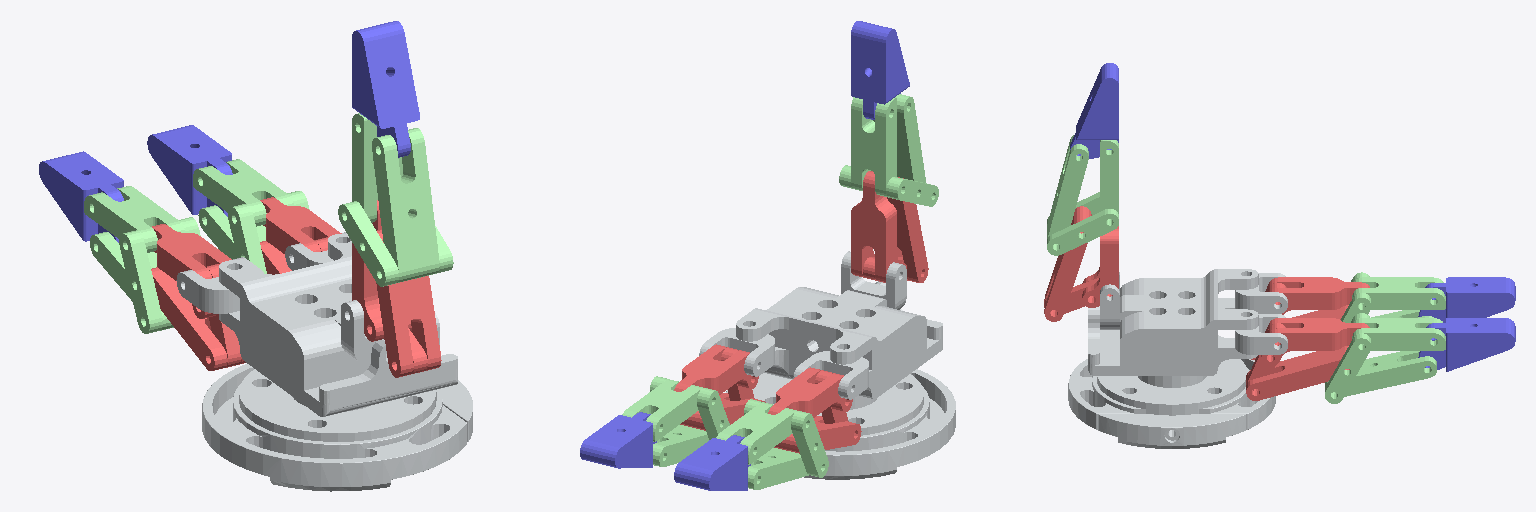
URDF robot description (hx01_p11_urdf_v1_5):
<?xml version="1.0" encoding="utf-8"?>
<!-- This URDF was automatically created by SolidWorks to URDF Exporter! Originally created by [author] ([email redacted]) 
     Commit Version: 1.6.0-4-g7f85cfe  Build Version: 1.6.7995.38578
     For more information, please see http://wiki.ros.org/sw_urdf_exporter -->
<robot
  name="hx01_p11_urdf_v1_5">
  <mujoco>
    <compiler meshdir="..\meshes" balanceinertia="false" discardvisual="false"/>
  </mujoco>

  <link
    name="hx01_hand_base_link">
    <inertial>
      <origin
        xyz="0.00054804 -0.0010883 -0.024366"
        rpy="0 0 0" />
      <mass
        value="0.27267" />
      <inertia
        ixx="0.00011167"
        ixy="1.523E-08"
        ixz="-1.3818E-07"
        iyy="9.5051E-05"
        iyz="-2.3852E-06"
        izz="0.0001569" />
    </inertial>
    <visual>
      <origin
        xyz="0 0 0"
        rpy="0 0 0" />
      <geometry>
        <mesh
          filename="package://hx01_p11_urdf_v1_5/meshes/hx01_hand_base_link.STL" />
      </geometry>
      <material
        name="">
        <color
          rgba="0.89804 0.91765 0.92941 1" />
      </material>
    </visual>
    <collision>
      <origin
        xyz="0 0 0"
        rpy="0 0 0" />
      <geometry>
        <mesh
          filename="package://hx01_p11_urdf_v1_5/meshes/hx01_hand_base_link.STL" />
      </geometry>
    </collision>
  </link>
  <link
    name="link1_F1_Ujoint">
    <inertial>
      <origin
        xyz="3.4029E-05 0 0.0035961"
        rpy="0 0 0" />
      <mass
        value="0.0061837" />
      <inertia
        ixx="2.2434E-07"
        ixy="-3.8637E-23"
        ixz="-1.9788E-09"
        iyy="5.4172E-07"
        iyz="7.1018E-24"
        izz="3.9017E-07" />
    </inertial>
    <visual>
      <origin
        xyz="0 0 0"
        rpy="0 0 0" />
      <geometry>
        <mesh
          filename="package://hx01_p11_urdf_v1_5/meshes/link1_F1_Ujoint.STL" />
      </geometry>
      <material
        name="">
        <color
          rgba="0.89804 0.91765 0.92941 1" />
      </material>
    </visual>
    <collision>
      <origin
        xyz="0 0 0"
        rpy="0 0 0" />
      <geometry>
        <mesh
          filename="package://hx01_p11_urdf_v1_5/meshes/link1_F1_Ujoint.STL" />
      </geometry>
    </collision>
  </link>
  <joint
    name="joint1_F1_MCPAbAd"
    type="revolute">
    <origin
      xyz="0 -0.026 -0.005"
      rpy="0 0 0" />
    <parent
      link="hx01_hand_base_link" />
    <child
      link="link1_F1_Ujoint" />
    <axis
      xyz="0 1 0" />
    <limit
      lower="-1.571"
      upper="1.571"
      effort="100"
      velocity="50" />
  </joint>
  <link
    name="link2_F1_Proximal">
    <inertial>
      <origin
        xyz="2.6493E-06 -0.0098301 0.010587"
        rpy="0 0 0" />
      <mass
        value="0.0095795" />
      <inertia
        ixx="1.363E-06"
        ixy="1.6403E-10"
        ixz="5.3694E-10"
        iyy="1.3386E-06"
        iyz="-2.7724E-07"
        izz="3.7875E-07" />
    </inertial>
    <visual>
      <origin
        xyz="0 0 0"
        rpy="0 0 0" />
      <geometry>
        <mesh
          filename="package://hx01_p11_urdf_v1_5/meshes/link2_F1_Proximal.STL" />
      </geometry>
      <material
        name="">
        <color
          rgba="1 0.50196 0.50196 1" />
      </material>
    </visual>
    <collision>
      <origin
        xyz="0 0 0"
        rpy="0 0 0" />
      <geometry>
        <mesh
          filename="package://hx01_p11_urdf_v1_5/meshes/link2_F1_Proximal.STL" />
      </geometry>
    </collision>
  </link>
  <joint
    name="joint2_F1_MCPFlex"
    type="revolute">
    <origin
      xyz="0 0 0.013"
      rpy="0 0 0" />
    <parent
      link="link1_F1_Ujoint" />
    <child
      link="link2_F1_Proximal" />
    <axis
      xyz="-1 0 0" />
    <limit
      lower="0"
      upper="2.094"
      effort="100"
      velocity="50" />
  </joint>
  <link
    name="link3_F1_Intermediate">
    <inertial>
      <origin
        xyz="4.9352E-06 -0.010536 0.006551"
        rpy="0 0 0" />
      <mass
        value="0.010285" />
      <inertia
        ixx="1.2728E-06"
        ixy="-1.329E-10"
        ixz="-9.1045E-10"
        iyy="1.2238E-06"
        iyz="-2.2669E-07"
        izz="4.0861E-07" />
    </inertial>
    <visual>
      <origin
        xyz="0 0 0"
        rpy="0 0 0" />
      <geometry>
        <mesh
          filename="package://hx01_p11_urdf_v1_5/meshes/link3_F1_Intermediate.STL" />
      </geometry>
      <material
        name="">
        <color
          rgba="0.75294 1 0.75294 1" />
      </material>
    </visual>
    <collision>
      <origin
        xyz="0 0 0"
        rpy="0 0 0" />
      <geometry>
        <mesh
          filename="package://hx01_p11_urdf_v1_5/meshes/link3_F1_Intermediate.STL" />
      </geometry>
    </collision>
  </link>
  <joint
    name="joint3_F1_PIP"
    type="revolute">
    <origin
      xyz="0 0 0.035"
      rpy="0 0 0" />
    <parent
      link="link2_F1_Proximal" />
    <child
      link="link3_F1_Intermediate" />
    <axis
      xyz="1 0 0" />
    <limit
      lower="-1.571"
      upper="0"
      effort="100"
      velocity="50" />
  </joint>
  <link
    name="link4_F1_Distal">
    <inertial>
      <origin
        xyz="2.6322E-09 -0.003231 0.014697"
        rpy="0 0 0" />
      <mass
        value="0.0060356" />
      <inertia
        ixx="6.7963E-07"
        ixy="-6.2431E-14"
        ixz="-2.7537E-14"
        iyy="6.5098E-07"
        iyz="-1.1436E-07"
        izz="2.3015E-07" />
    </inertial>
    <visual>
      <origin
        xyz="0 0 0"
        rpy="0 0 0" />
      <geometry>
        <mesh
          filename="package://hx01_p11_urdf_v1_5/meshes/link4_F1_Distal.STL" />
      </geometry>
      <material
        name="">
        <color
          rgba="0.50196 0.50196 1 1" />
      </material>
    </visual>
    <collision>
      <origin
        xyz="0 0 0"
        rpy="0 0 0" />
      <geometry>
        <mesh
          filename="package://hx01_p11_urdf_v1_5/meshes/link4_F1_Distal.STL" />
      </geometry>
    </collision>
  </link>
  <joint
    name="joint4_F1_DIP"
    type="revolute">
    <origin
      xyz="0 0 0.03"
      rpy="0 0 0" />
    <parent
      link="link3_F1_Intermediate" />
    <child
      link="link4_F1_Distal" />
    <axis
      xyz="1 0 0" />
    <limit
      lower="-1.571"
      upper="0"
      effort="100"
      velocity="50" />
  </joint>
  <link
    name="link5_F2_Ujoint">
    <inertial>
      <origin
        xyz="-3.4029E-05 0.0035961 1.8871E-18"
        rpy="0 0 0" />
      <mass
        value="0.0061837" />
      <inertia
        ixx="2.2434E-07"
        ixy="1.9788E-09"
        ixz="2.5877E-23"
        iyy="3.9017E-07"
        iyz="2.885E-23"
        izz="5.4172E-07" />
    </inertial>
    <visual>
      <origin
        xyz="0 0 0"
        rpy="0 0 0" />
      <geometry>
        <mesh
          filename="package://hx01_p11_urdf_v1_5/meshes/link5_F2_Ujoint.STL" />
      </geometry>
      <material
        name="">
        <color
          rgba="0.89804 0.91765 0.92941 1" />
      </material>
    </visual>
    <collision>
      <origin
        xyz="0 0 0"
        rpy="0 0 0" />
      <geometry>
        <mesh
          filename="package://hx01_p11_urdf_v1_5/meshes/link5_F2_Ujoint.STL" />
      </geometry>
    </collision>
  </link>
  <joint
    name="joint5_F2_MCPAbAd"
    type="revolute">
    <origin
      xyz="0.02 0.031 -0.005"
      rpy="0 0 0" />
    <parent
      link="hx01_hand_base_link" />
    <child
      link="link5_F2_Ujoint" />
    <axis
      xyz="0 0 1" />
    <limit
      lower="-1.571"
      upper="0.3"
      effort="100"
      velocity="50" />
  </joint>
  <link
    name="link6_F2_Proximal">
    <inertial>
      <origin
        xyz="-2.6493E-06 0.010587 -0.0098301"
        rpy="0 0 0" />
      <mass
        value="0.0095795" />
      <inertia
        ixx="1.363E-06"
        ixy="-5.3694E-10"
        ixz="-1.6403E-10"
        iyy="3.7875E-07"
        iyz="-2.7724E-07"
        izz="1.3386E-06" />
    </inertial>
    <visual>
      <origin
        xyz="0 0 0"
        rpy="0 0 0" />
      <geometry>
        <mesh
          filename="package://hx01_p11_urdf_v1_5/meshes/link6_F2_Proximal.STL" />
      </geometry>
      <material
        name="">
        <color
          rgba="1 0.50196 0.50196 1" />
      </material>
    </visual>
    <collision>
      <origin
        xyz="0 0 0"
        rpy="0 0 0" />
      <geometry>
        <mesh
          filename="package://hx01_p11_urdf_v1_5/meshes/link6_F2_Proximal.STL" />
      </geometry>
    </collision>
  </link>
  <joint
    name="joint6_F2_MCPFlex"
    type="revolute">
    <origin
      xyz="0 0.013 0"
      rpy="0 0 0" />
    <parent
      link="link5_F2_Ujoint" />
    <child
      link="link6_F2_Proximal" />
    <axis
      xyz="1 0 0" />
    <limit
      lower="0"
      upper="2.094"
      effort="100"
      velocity="50" />
  </joint>
  <link
    name="link7_F2_Intermediate">
    <inertial>
      <origin
        xyz="-4.9352E-06 0.006551 -0.010536"
        rpy="0 0 0" />
      <mass
        value="0.010285" />
      <inertia
        ixx="1.2728E-06"
        ixy="9.1045E-10"
        ixz="1.329E-10"
        iyy="4.0861E-07"
        iyz="-2.2669E-07"
        izz="1.2238E-06" />
    </inertial>
    <visual>
      <origin
        xyz="0 0 0"
        rpy="0 0 0" />
      <geometry>
        <mesh
          filename="package://hx01_p11_urdf_v1_5/meshes/link7_F2_Intermediate.STL" />
      </geometry>
      <material
        name="">
        <color
          rgba="0.75294 1 0.75294 1" />
      </material>
    </visual>
    <collision>
      <origin
        xyz="0 0 0"
        rpy="0 0 0" />
      <geometry>
        <mesh
          filename="package://hx01_p11_urdf_v1_5/meshes/link7_F2_Intermediate.STL" />
      </geometry>
    </collision>
  </link>
  <joint
    name="joint7_F2_PIP"
    type="revolute">
    <origin
      xyz="0 0.035 0"
      rpy="0 0 0" />
    <parent
      link="link6_F2_Proximal" />
    <child
      link="link7_F2_Intermediate" />
    <axis
      xyz="-1 0 0" />
    <limit
      lower="-1.571"
      upper="0"
      effort="100"
      velocity="50" />
  </joint>
  <link
    name="link8_F2_Distal">
    <inertial>
      <origin
        xyz="-2.6322E-09 0.014697 -0.003231"
        rpy="0 0 0" />
      <mass
        value="0.0060356" />
      <inertia
        ixx="6.7963E-07"
        ixy="2.7537E-14"
        ixz="6.2431E-14"
        iyy="2.3015E-07"
        iyz="-1.1436E-07"
        izz="6.5098E-07" />
    </inertial>
    <visual>
      <origin
        xyz="0 0 0"
        rpy="0 0 0" />
      <geometry>
        <mesh
          filename="package://hx01_p11_urdf_v1_5/meshes/link8_F2_Distal.STL" />
      </geometry>
      <material
        name="">
        <color
          rgba="0.50196 0.50196 1 1" />
      </material>
    </visual>
    <collision>
      <origin
        xyz="0 0 0"
        rpy="0 0 0" />
      <geometry>
        <mesh
          filename="package://hx01_p11_urdf_v1_5/meshes/link8_F2_Distal.STL" />
      </geometry>
    </collision>
  </link>
  <joint
    name="joint8_F2_DIP"
    type="revolute">
    <origin
      xyz="0 0.03 0"
      rpy="0 0 0" />
    <parent
      link="link7_F2_Intermediate" />
    <child
      link="link8_F2_Distal" />
    <axis
      xyz="-1 0 0" />
    <limit
      lower="-1.571"
      upper="0"
      effort="100"
      velocity="50" />
  </joint>
  <link
    name="link9_F3_Ujoint">
    <inertial>
      <origin
        xyz="-3.4029E-05 0.0035961 3.6746E-18"
        rpy="0 0 0" />
      <mass
        value="0.0061837" />
      <inertia
        ixx="2.2434E-07"
        ixy="1.9788E-09"
        ixz="1.7966E-23"
        iyy="3.9017E-07"
        iyz="2.7208E-23"
        izz="5.4172E-07" />
    </inertial>
    <visual>
      <origin
        xyz="0 0 0"
        rpy="0 0 0" />
      <geometry>
        <mesh
          filename="package://hx01_p11_urdf_v1_5/meshes/link9_F3_Ujoint.STL" />
      </geometry>
      <material
        name="">
        <color
          rgba="0.89804 0.91765 0.92941 1" />
      </material>
    </visual>
    <collision>
      <origin
        xyz="0 0 0"
        rpy="0 0 0" />
      <geometry>
        <mesh
          filename="package://hx01_p11_urdf_v1_5/meshes/link9_F3_Ujoint.STL" />
      </geometry>
    </collision>
  </link>
  <joint
    name="joint9_F3_MCPAbAd"
    type="revolute">
    <origin
      xyz="-0.02 0.031 -0.005"
      rpy="0 0 0" />
    <parent
      link="hx01_hand_base_link" />
    <child
      link="link9_F3_Ujoint" />
    <axis
      xyz="0 0 1" />
    <limit
      lower="-0.3"
      upper="1.571"
      effort="100"
      velocity="50" />
  </joint>
  <link
    name="link10_F3_Proximal">
    <inertial>
      <origin
        xyz="-2.6493E-06 0.010587 -0.0098301"
        rpy="0 0 0" />
      <mass
        value="0.0095795" />
      <inertia
        ixx="1.363E-06"
        ixy="-5.3694E-10"
        ixz="-1.6403E-10"
        iyy="3.7875E-07"
        iyz="-2.7724E-07"
        izz="1.3386E-06" />
    </inertial>
    <visual>
      <origin
        xyz="0 0 0"
        rpy="0 0 0" />
      <geometry>
        <mesh
          filename="package://hx01_p11_urdf_v1_5/meshes/link10_F3_Proximal.STL" />
      </geometry>
      <material
        name="">
        <color
          rgba="1 0.50196 0.50196 1" />
      </material>
    </visual>
    <collision>
      <origin
        xyz="0 0 0"
        rpy="0 0 0" />
      <geometry>
        <mesh
          filename="package://hx01_p11_urdf_v1_5/meshes/link10_F3_Proximal.STL" />
      </geometry>
    </collision>
  </link>
  <joint
    name="joint10_F3_MCPFlex"
    type="revolute">
    <origin
      xyz="0 0.013 0"
      rpy="0 0 0" />
    <parent
      link="link9_F3_Ujoint" />
    <child
      link="link10_F3_Proximal" />
    <axis
      xyz="1 0 0" />
    <limit
      lower="0"
      upper="2.097"
      effort="100"
      velocity="50" />
  </joint>
  <link
    name="link11_F3_Intermediate">
    <inertial>
      <origin
        xyz="-4.9352E-06 0.006551 -0.010536"
        rpy="0 0 0" />
      <mass
        value="0.010285" />
      <inertia
        ixx="1.2728E-06"
        ixy="9.1045E-10"
        ixz="1.329E-10"
        iyy="4.0861E-07"
        iyz="-2.2669E-07"
        izz="1.2238E-06" />
    </inertial>
    <visual>
      <origin
        xyz="0 0 0"
        rpy="0 0 0" />
      <geometry>
        <mesh
          filename="package://hx01_p11_urdf_v1_5/meshes/link11_F3_Intermediate.STL" />
      </geometry>
      <material
        name="">
        <color
          rgba="0.75294 1 0.75294 1" />
      </material>
    </visual>
    <collision>
      <origin
        xyz="0 0 0"
        rpy="0 0 0" />
      <geometry>
        <mesh
          filename="package://hx01_p11_urdf_v1_5/meshes/link11_F3_Intermediate.STL" />
      </geometry>
    </collision>
  </link>
  <joint
    name="joint11_F3_PIP"
    type="revolute">
    <origin
      xyz="0 0.035 0"
      rpy="0 0 0" />
    <parent
      link="link10_F3_Proximal" />
    <child
      link="link11_F3_Intermediate" />
    <axis
      xyz="-1 0 0" />
    <limit
      lower="-1.571"
      upper="0"
      effort="100"
      velocity="50" />
  </joint>
  <link
    name="link12_F3_Distal">
    <inertial>
      <origin
        xyz="-2.6322E-09 0.014697 -0.003231"
        rpy="0 0 0" />
      <mass
        value="0.0060356" />
      <inertia
        ixx="6.7963E-07"
        ixy="2.7537E-14"
        ixz="6.2431E-14"
        iyy="2.3015E-07"
        iyz="-1.1436E-07"
        izz="6.5098E-07" />
    </inertial>
    <visual>
      <origin
        xyz="0 0 0"
        rpy="0 0 0" />
      <geometry>
        <mesh
          filename="package://hx01_p11_urdf_v1_5/meshes/link12_F3_Distal.STL" />
      </geometry>
      <material
        name="">
        <color
          rgba="0.50196 0.50196 1 1" />
      </material>
    </visual>
    <collision>
      <origin
        xyz="0 0 0"
        rpy="0 0 0" />
      <geometry>
        <mesh
          filename="package://hx01_p11_urdf_v1_5/meshes/link12_F3_Distal.STL" />
      </geometry>
    </collision>
  </link>
  <joint
    name="joint12_F3_DIP"
    type="revolute">
    <origin
      xyz="0 0.03 0"
      rpy="0 0 0" />
    <parent
      link="link11_F3_Intermediate" />
    <child
      link="link12_F3_Distal" />
    <axis
      xyz="-1 0 0" />
    <limit
      lower="-1.571"
      upper="0"
      effort="100"
      velocity="50" />
  </joint>
</robot>

--- Facts derived from the render (not from the file) ---
3 views of the same robot in one strip: view 1: azimuth 30°, elevation 25°; view 2: azimuth 150°, elevation 25°; view 3: azimuth 270°, elevation 25° (orthographic).
Model hx01_p11_urdf_v1_5 with 13 links and 12 joints (12 revolute), rooted at hx01_hand_base_link, posed all joints at 0.
Links seen in each view (by area): view 1: hx01_hand_base_link, link3_F1_Intermediate, link11_F3_Intermediate, link2_F1_Proximal, link10_F3_Proximal, link4_F1_Distal, link7_F2_Intermediate, link8_F2_Distal, link12_F3_Distal, link6_F2_Proximal, link9_F3_Ujoint, link1_F1_Ujoint (+1 smaller); view 2: hx01_hand_base_link, link3_F1_Intermediate, link11_F3_Intermediate, link2_F1_Proximal, link7_F2_Intermediate, link4_F1_Distal, link10_F3_Proximal, link6_F2_Proximal, link12_F3_Distal, link8_F2_Distal, link1_F1_Ujoint, link5_F2_Ujoint (+1 smaller); view 3: hx01_hand_base_link, link7_F2_Intermediate, link6_F2_Proximal, link3_F1_Intermediate, link2_F1_Proximal, link11_F3_Intermediate, link8_F2_Distal, link12_F3_Distal, link10_F3_Proximal, link4_F1_Distal, link5_F2_Ujoint, link9_F3_Ujoint (+1 smaller).
Boxes of the visible links, x1=… form: hx01_hand_base_link: x1=202, y1=234, x2=472, y2=491; link3_F1_Intermediate: x1=338, y1=113, x2=453, y2=286; link11_F3_Intermediate: x1=84, y1=186, x2=200, y2=333; link2_F1_Proximal: x1=352, y1=200, x2=441, y2=377; link10_F3_Proximal: x1=151, y1=224, x2=245, y2=370; link4_F1_Distal: x1=352, y1=21, x2=419, y2=157; link7_F2_Intermediate: x1=193, y1=159, x2=309, y2=273; link8_F2_Distal: x1=147, y1=125, x2=232, y2=216; link12_F3_Distal: x1=39, y1=151, x2=123, y2=242; link6_F2_Proximal: x1=260, y1=197, x2=341, y2=274; link9_F3_Ujoint: x1=176, y1=257, x2=263, y2=313; link1_F1_Ujoint: x1=341, y1=300, x2=386, y2=366; hx01_hand_base_link: x1=726, y1=281, x2=955, y2=479; link3_F1_Intermediate: x1=839, y1=94, x2=938, y2=206; link11_F3_Intermediate: x1=716, y1=399, x2=828, y2=489; link2_F1_Proximal: x1=851, y1=171, x2=928, y2=282; link7_F2_Intermediate: x1=622, y1=376, x2=729, y2=466; link4_F1_Distal: x1=851, y1=21, x2=909, y2=119; link10_F3_Proximal: x1=768, y1=367, x2=861, y2=453; link6_F2_Proximal: x1=674, y1=344, x2=765, y2=430; link12_F3_Distal: x1=674, y1=435, x2=750, y2=490; link8_F2_Distal: x1=580, y1=412, x2=656, y2=468; link1_F1_Ujoint: x1=841, y1=251, x2=906, y2=309; link5_F2_Ujoint: x1=699, y1=328, x2=774, y2=376; hx01_hand_base_link: x1=1068, y1=269, x2=1275, y2=448; link7_F2_Intermediate: x1=1325, y1=313, x2=1445, y2=403; link6_F2_Proximal: x1=1246, y1=318, x2=1369, y2=400; link3_F1_Intermediate: x1=1047, y1=135, x2=1118, y2=255; link2_F1_Proximal: x1=1044, y1=206, x2=1118, y2=321; link11_F3_Intermediate: x1=1341, y1=272, x2=1445, y2=322; link8_F2_Distal: x1=1418, y1=318, x2=1515, y2=371; link12_F3_Distal: x1=1418, y1=277, x2=1515, y2=322; link10_F3_Proximal: x1=1251, y1=277, x2=1369, y2=359; link4_F1_Distal: x1=1070, y1=63, x2=1118, y2=158; link5_F2_Ujoint: x1=1235, y1=314, x2=1287, y2=354; link9_F3_Ujoint: x1=1235, y1=273, x2=1287, y2=313.
Size in the robot's own frame: 0.0865 by 0.1962 by 0.1545 metres.
13 mesh visuals loaded from 13 distinct referenced files (13 binary STL).